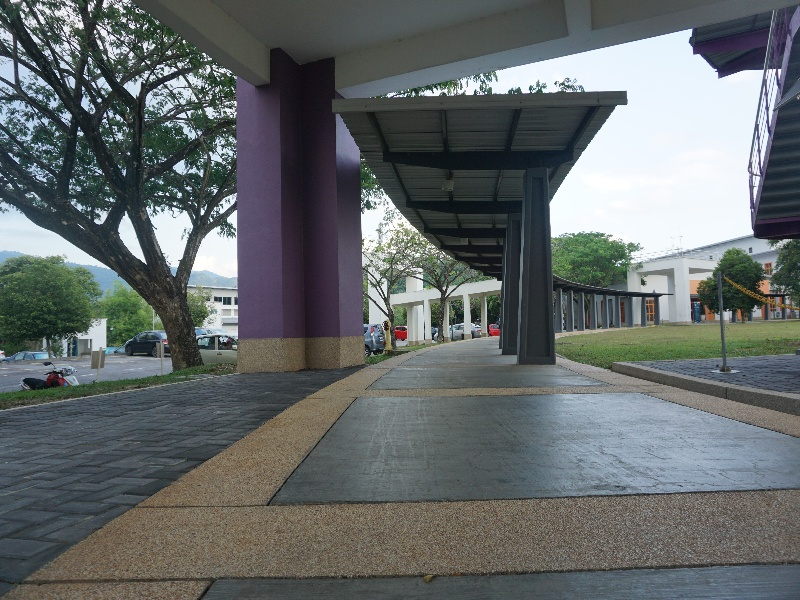Block D Pillar 6: (4, 5, 800, 532)
pillar: (235, 35, 369, 374), (507, 161, 573, 372)
